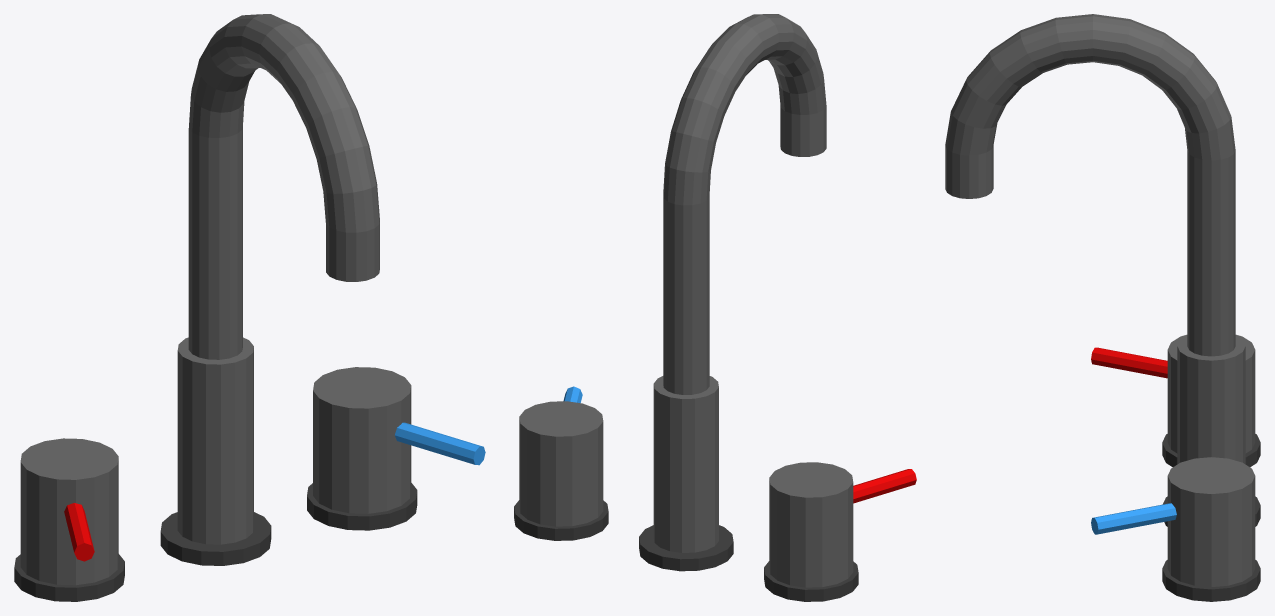
The model's file is Prop_Faucet_07.fbx.
The picture shows the model from 3 angles, left to right: view 1: azimuth 30°, elevation 25°; view 2: azimuth 150°, elevation 25°; view 3: azimuth 270°, elevation 25°; orthographic projection. The views are drawn at different scales.
Parts seen in each view (by area): view 1: Prop_Faucet_07; view 2: Prop_Faucet_07; view 3: Prop_Faucet_07.
Part boxes in pixels (<box>): Prop_Faucet_07: <box>14,14,485,601</box>; Prop_Faucet_07: <box>514,14,916,601</box>; Prop_Faucet_07: <box>945,14,1260,601</box>.
Bounding box in the file's own units: 27.44 × 36.2 × 20.63.
